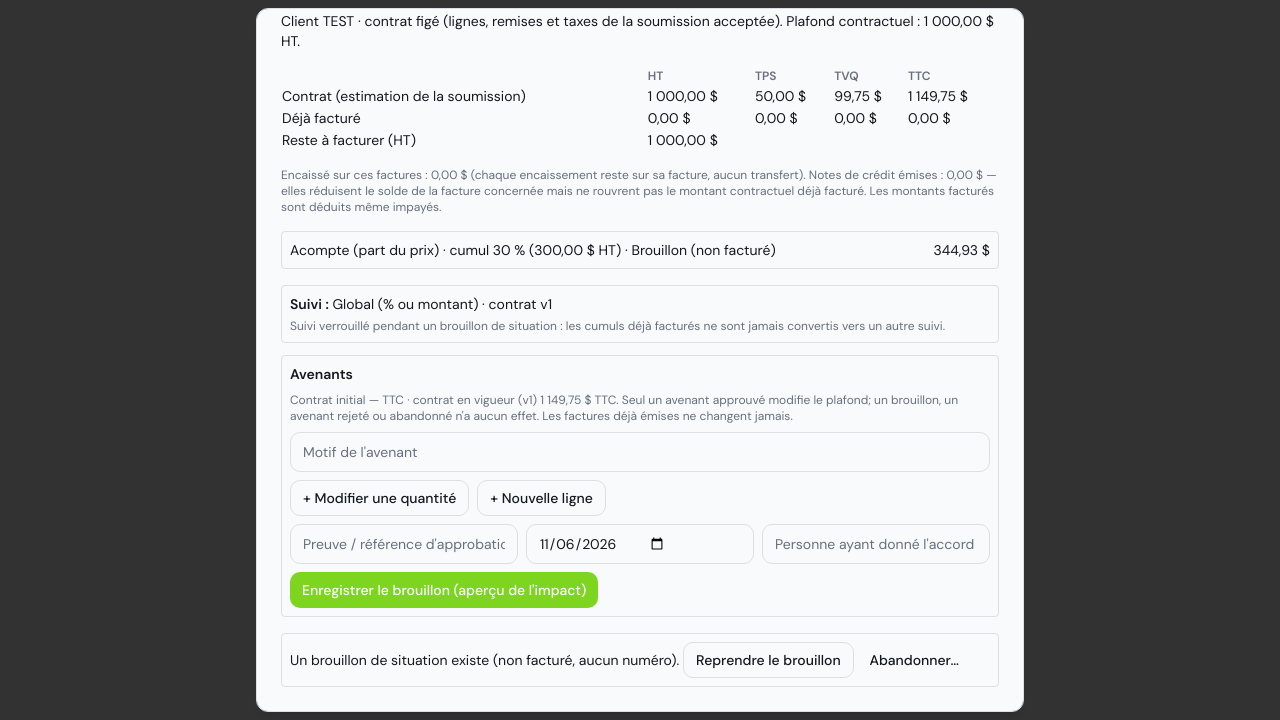
Test: FIN-09B1 — aperçu et émission › brouillon existant : reprise explicite avec sa clé et sa révision
(page scrolled)
Click the button "Reprendre le brouillon". click: click(768, 660)
box: [683, 642, 854, 678]
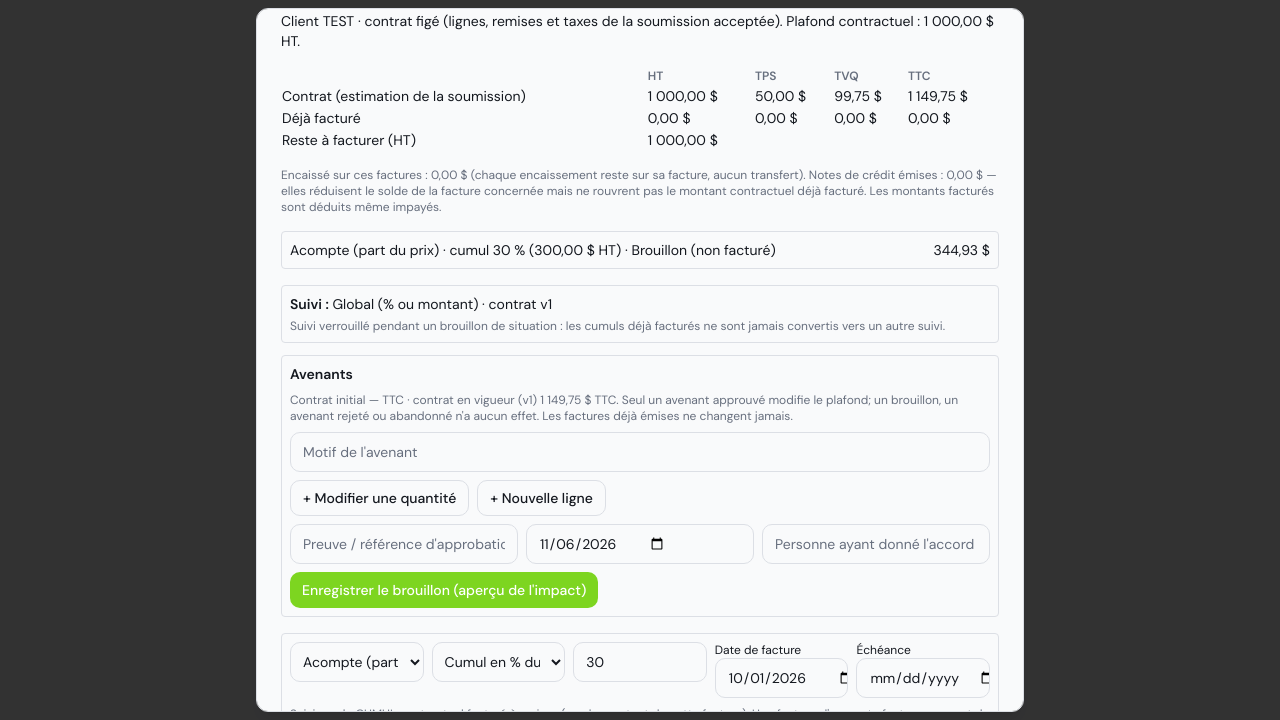
Replace the text in the field named "Cumul contractuel" with "35". click: (640, 662)
box: [573, 642, 707, 682]
(page scrolled)
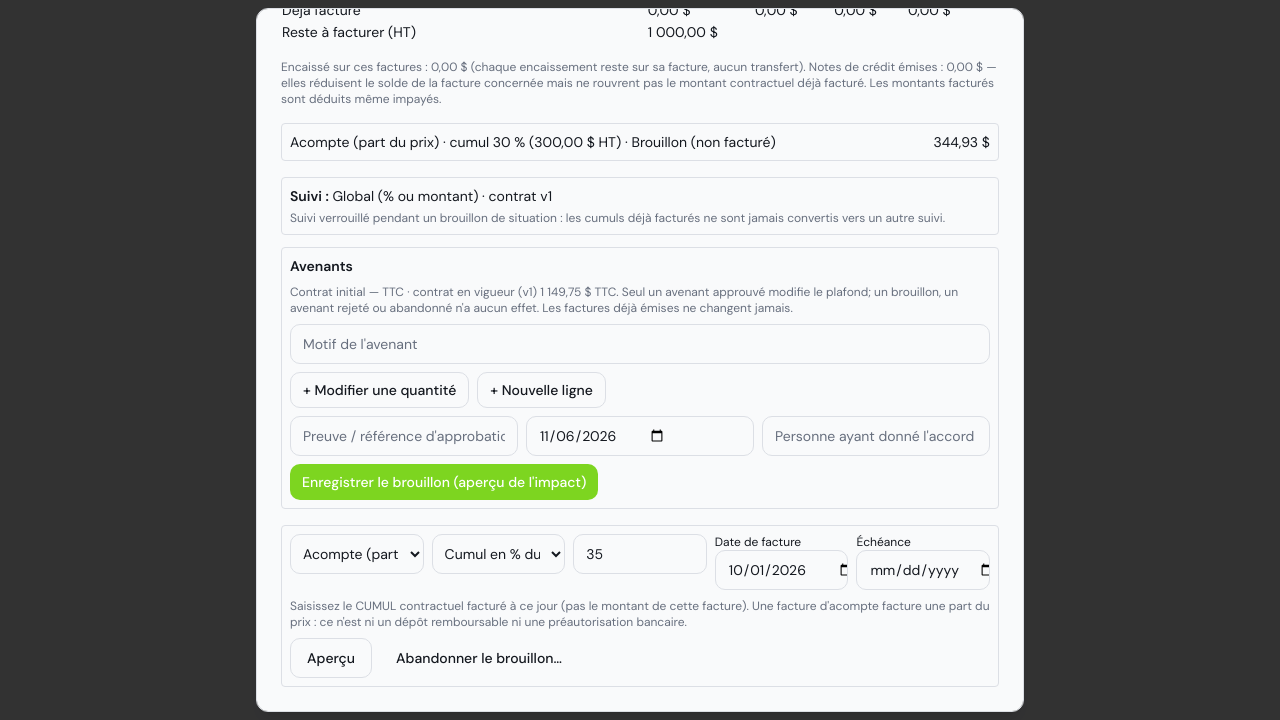
Click the button "Aperçu". click: click(331, 658)
box: [290, 638, 372, 678]
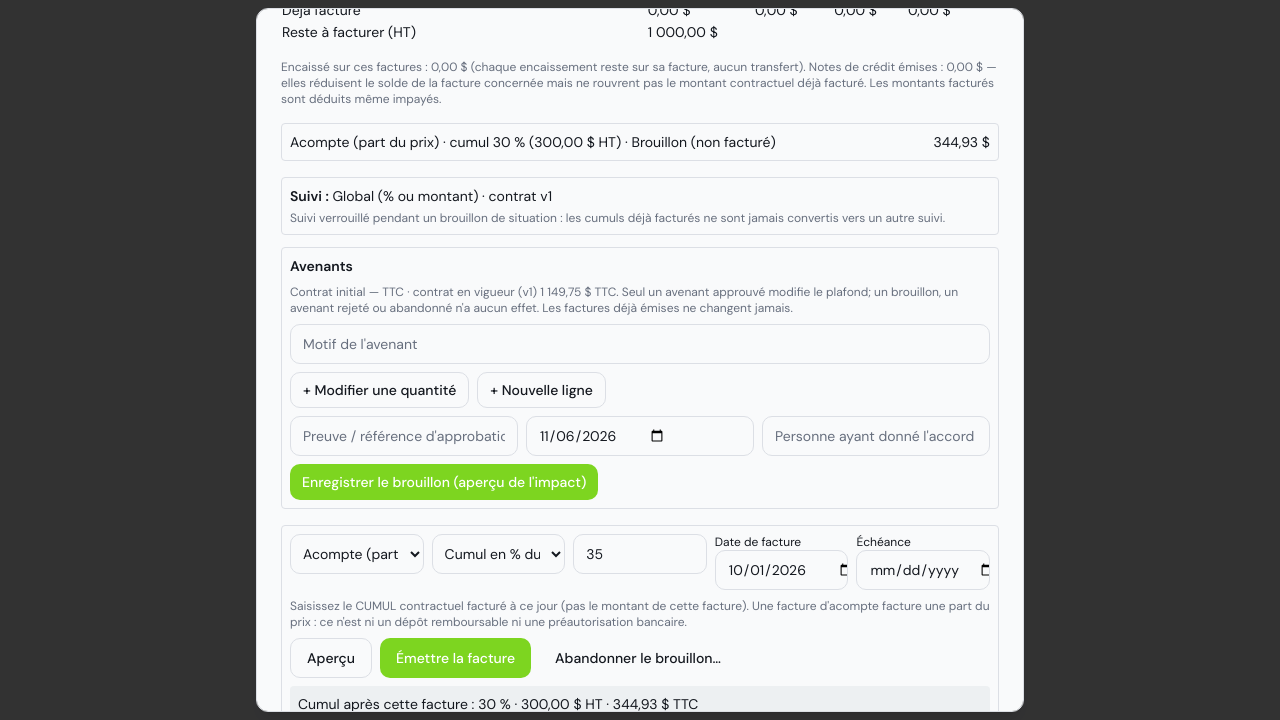
expect the button "Émettre la facture" is shown: met, box [380, 638, 531, 678]
